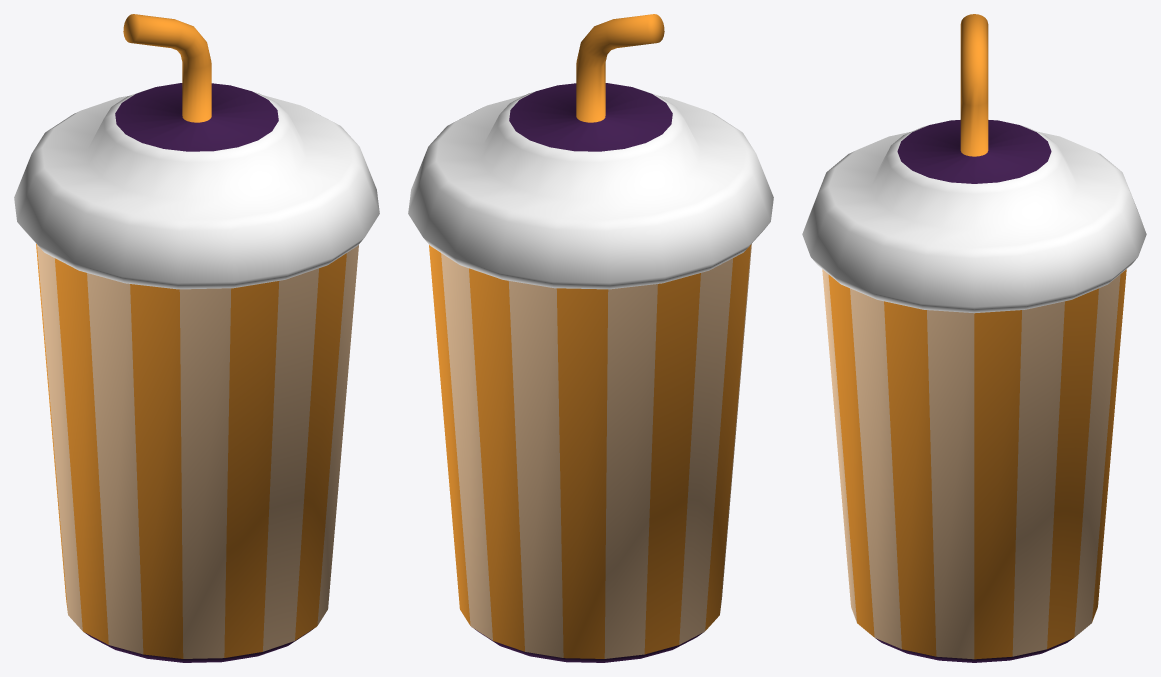
The model's file is ToyObject_116.fbx.
3 renders of one model, left to right at view 1: azimuth 30°, elevation 25°; view 2: azimuth 150°, elevation 25°; view 3: azimuth 270°, elevation 25°, orthographic. The views are drawn at different scales.
Parts seen in each view (by area): view 1: Object.047; view 2: Object.047; view 3: Object.047.
Part boxes in pixels (box(x1,y1,x2,y2)): Object.047: box(14, 14, 379, 662); Object.047: box(408, 14, 773, 662); Object.047: box(802, 14, 1146, 662).
Bounding box in the file's own units: 0.1053 × 0.1932 × 0.1053.
